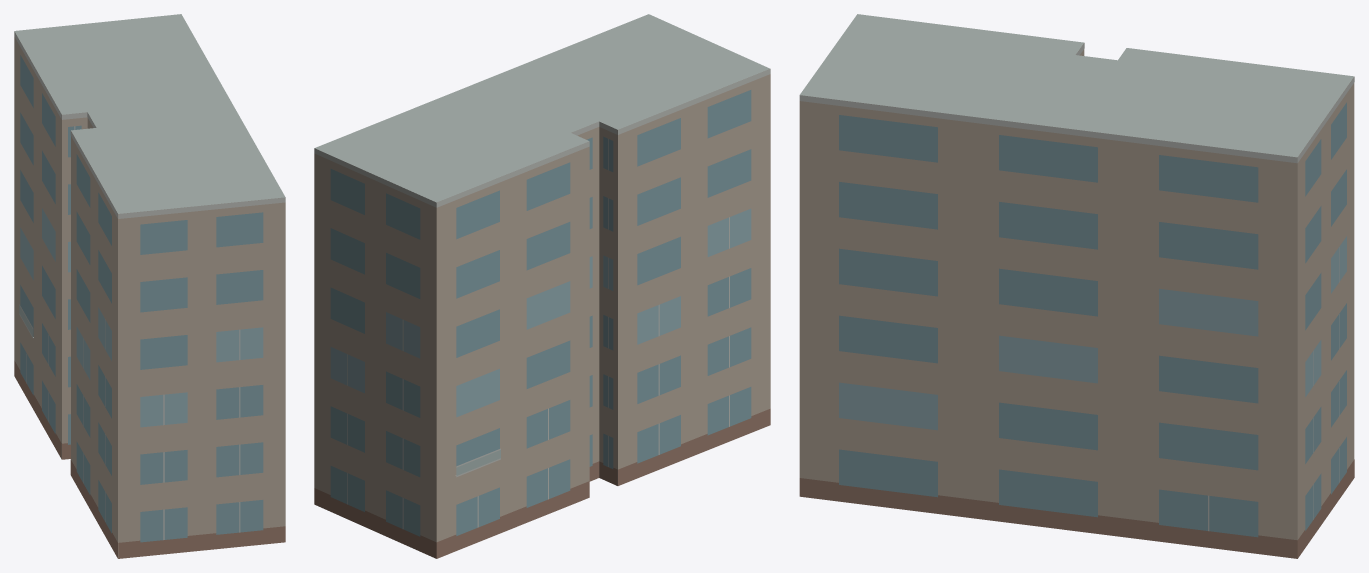
File: survey-upis-32876939.glb
3 views of the same model, side by side, from view 1: azimuth 30°, elevation 25°; view 2: azimuth 150°, elevation 25°; view 3: azimuth 270°, elevation 25° (orthographic). The views are drawn at different scales.
Parts seen in each view (by area): view 1: survey-upis-32876939.tmp; view 2: survey-upis-32876939.tmp; view 3: survey-upis-32876939.tmp.
Part boxes in pixels (left/top/right/bottom): survey-upis-32876939.tmp: left=14, top=14, right=285, bottom=558; survey-upis-32876939.tmp: left=314, top=14, right=770, bottom=558; survey-upis-32876939.tmp: left=799, top=14, right=1354, bottom=558.
Bounding box in the file's own units: 12.72 × 16.6 × 20.8.
